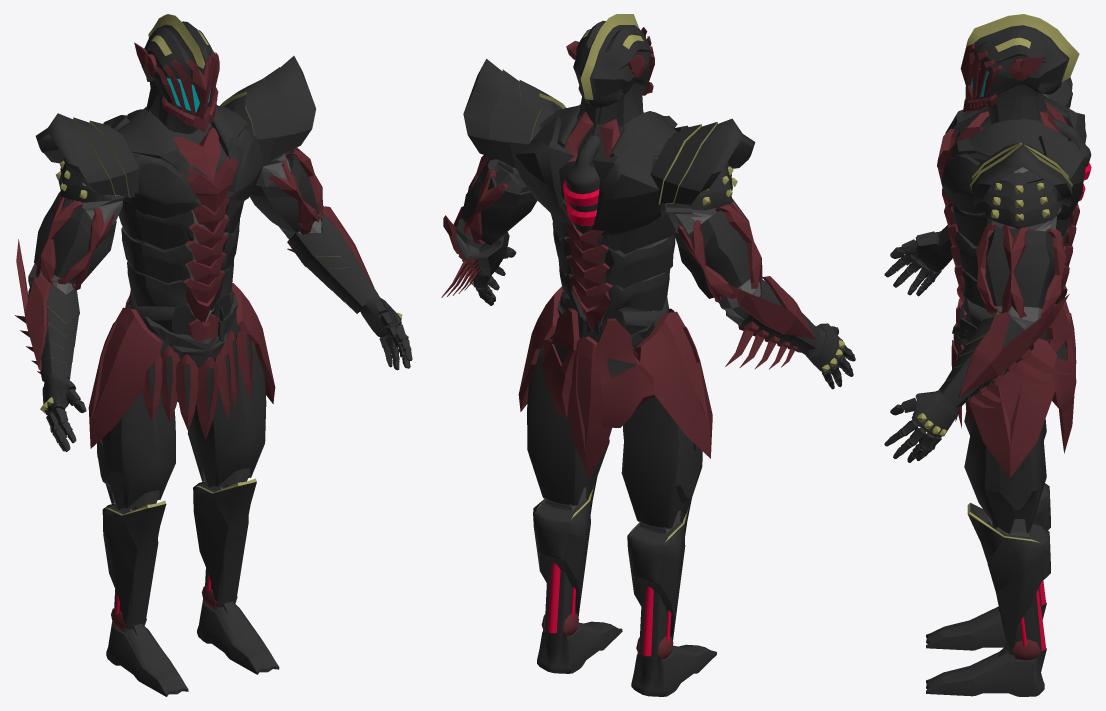
Rendered from character.fbx.
The picture shows the model from 3 angles, left to right: view 1: azimuth 30°, elevation 25°; view 2: azimuth 150°, elevation 25°; view 3: azimuth 270°, elevation 25°; orthographic projection. The views are drawn at different scales.
Visible parts, largest first — view 1: thigh_armour_low, pauldron_low, shin_armour_low, fauld_side_guard_low, foot_low, entire_head_and_neck_low, bicep_armour_low, chest_low, neck_cover_low, forearm_armour3_low, torso_armour_side2_low, torso_armour_side1_low (+29 smaller); view 2: thigh_armour_low, pauldron_low, shoulder_blade_low, shin_armour_low, fauld_side_guard_low, entire_head_and_neck_low, waist_fauld_back_low, bicep_armour_low, foot_low, fauld_side_guard1_low, torso_armour_side1_low, arm_low (+19 smaller); view 3: entire_head_and_neck_low, foot_low, shin_armour_low, fauld_side_guard_low, thigh_armour_low, bicep_armour_low, pauldron_low, forearm_blade_big_low, shoulder_armour_low, neck_cover_low, hand_low, shoulder_blade_low (+30 smaller).
Boxes of the visible parts, box(x1,y1,x2,y2) form: thigh_armour_low: box(97, 341, 266, 510); pauldron_low: box(35, 56, 315, 197); shin_armour_low: box(102, 478, 256, 629); fauld_side_guard_low: box(88, 283, 275, 448); foot_low: box(106, 599, 279, 696); entire_head_and_neck_low: box(123, 14, 251, 205); bicep_armour_low: box(34, 154, 319, 284); chest_low: box(128, 136, 263, 220); neck_cover_low: box(117, 105, 247, 178); forearm_armour3_low: box(28, 213, 378, 381); torso_armour_side2_low: box(118, 199, 244, 249); torso_armour_side1_low: box(121, 219, 239, 283); thigh_armour_low: box(527, 345, 702, 528); pauldron_low: box(463, 59, 755, 204); shoulder_blade_low: box(515, 116, 661, 235); shin_armour_low: box(533, 477, 691, 640); fauld_side_guard_low: box(518, 286, 712, 458); entire_head_and_neck_low: box(559, 14, 665, 211); waist_fauld_back_low: box(542, 308, 654, 427); bicep_armour_low: box(461, 159, 750, 298); foot_low: box(537, 621, 716, 696); fauld_side_guard1_low: box(568, 336, 611, 477); torso_armour_side1_low: box(552, 222, 675, 288); arm_low: box(455, 159, 760, 319); entire_head_and_neck_low: box(957, 14, 1079, 166); foot_low: box(926, 602, 1046, 696); shin_armour_low: box(967, 483, 1050, 655); fauld_side_guard_low: box(968, 338, 1057, 477); thigh_armour_low: box(964, 412, 1046, 533); bicep_armour_low: box(985, 229, 1054, 308); pauldron_low: box(970, 77, 1072, 206); forearm_blade_big_low: box(958, 294, 1069, 397); shoulder_armour_low: box(981, 170, 1060, 228); neck_cover_low: box(948, 99, 1067, 160); hand_low: box(911, 231, 960, 436); shoulder_blade_low: box(1038, 95, 1086, 219).
Bounding box in the file's own units: 10.27 × 17.37 × 5.01.
